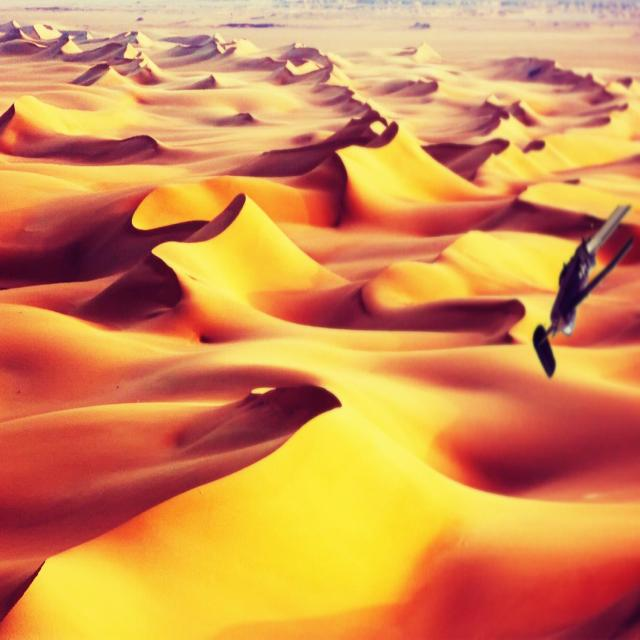airplane: (532, 202, 633, 378)
